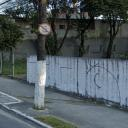NoEstacionar: (36, 23, 51, 36)
